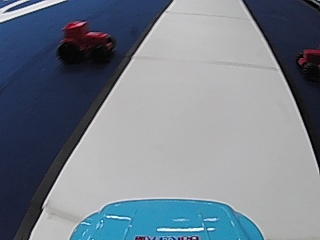tractor: (55, 18, 116, 63), (294, 46, 320, 82)
